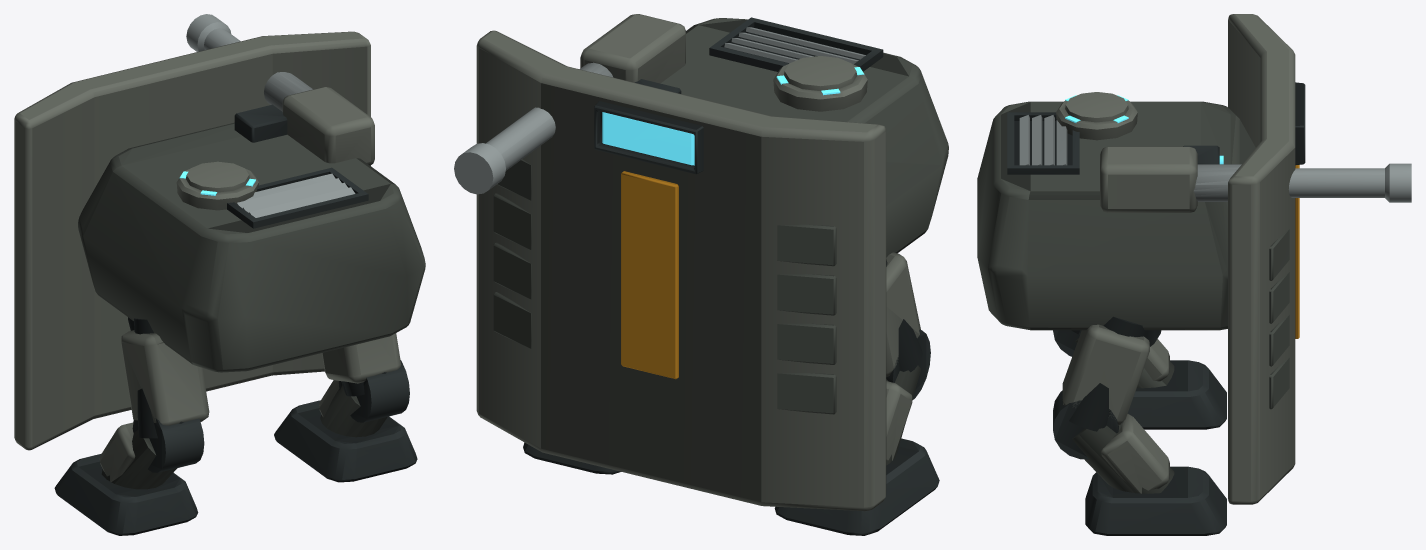
File: BulwarkWalker.glb
3 views of the same model, side by side, from view 1: azimuth 30°, elevation 25°; view 2: azimuth 150°, elevation 25°; view 3: azimuth 270°, elevation 25° (orthographic). The views are drawn at different scales.
Parts seen in each view (by area): view 1: export_BulwarkWalker_Torso, export_BulwarkWalker_KineticShield, export_BulwarkWalker_GunMount, export_BulwarkWalker_HipDrum, export_BulwarkWalker_Foot.001, export_BulwarkWalker_Foot, export_BulwarkWalker_KneeJoint, export_BulwarkWalker_KneeJoint.001, export_BulwarkWalker_HipDrum.001; view 2: export_BulwarkWalker_KineticShield, export_BulwarkWalker_Torso, export_BulwarkWalker_GunMount, export_BulwarkWalker_Foot, export_BulwarkWalker_HipDrum, export_BulwarkWalker_KneeJoint, export_BulwarkWalker_Foot.001; view 3: export_BulwarkWalker_Torso, export_BulwarkWalker_KineticShield, export_BulwarkWalker_GunMount, export_BulwarkWalker_Foot.001, export_BulwarkWalker_HipDrum.001, export_BulwarkWalker_KneeJoint.001, export_BulwarkWalker_Foot, export_BulwarkWalker_KneeJoint.
Part boxes in pixels (left/top/right/bottom): export_BulwarkWalker_Torso: left=78, top=122, right=425, bottom=372; export_BulwarkWalker_KineticShield: left=14, top=31, right=370, bottom=450; export_BulwarkWalker_GunMount: left=186, top=14, right=374, bottom=165; export_BulwarkWalker_HipDrum: left=121, top=317, right=209, bottom=438; export_BulwarkWalker_Foot.001: left=274, top=400, right=417, bottom=482; export_BulwarkWalker_Foot: left=54, top=453, right=198, bottom=535; export_BulwarkWalker_KneeJoint: left=99, top=418, right=204, bottom=489; export_BulwarkWalker_KneeJoint.001: left=319, top=360, right=409, bottom=437; export_BulwarkWalker_HipDrum.001: left=322, top=333, right=401, bottom=396; export_BulwarkWalker_KineticShield: left=476, top=30, right=886, bottom=511; export_BulwarkWalker_Torso: left=660, top=17, right=948, bottom=257; export_BulwarkWalker_GunMount: left=454, top=14, right=685, bottom=194; export_BulwarkWalker_Foot: left=774, top=438, right=939, bottom=535; export_BulwarkWalker_HipDrum: left=886, top=252, right=922, bottom=376; export_BulwarkWalker_KneeJoint: left=886, top=329, right=930, bottom=465; export_BulwarkWalker_Foot.001: left=523, top=442, right=620, bottom=474; export_BulwarkWalker_Torso: left=977, top=92, right=1255, bottom=330; export_BulwarkWalker_KineticShield: left=1228, top=14, right=1305, bottom=504; export_BulwarkWalker_GunMount: left=1100, top=145, right=1411, bottom=212; export_BulwarkWalker_Foot.001: left=1085, top=466, right=1226, bottom=535; export_BulwarkWalker_HipDrum.001: left=1062, top=316, right=1161, bottom=431; export_BulwarkWalker_KneeJoint.001: left=1053, top=390, right=1174, bottom=493; export_BulwarkWalker_Foot: left=1127, top=360, right=1226, bottom=429; export_BulwarkWalker_KneeJoint: left=1053, top=330, right=1174, bottom=388.
Bounding box in the file's own units: 2.52 × 2.57 × 2.76.
